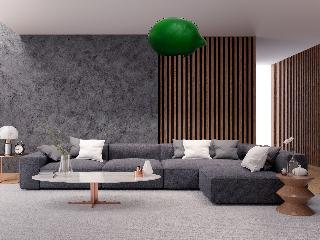lime: (144, 14, 210, 60)
